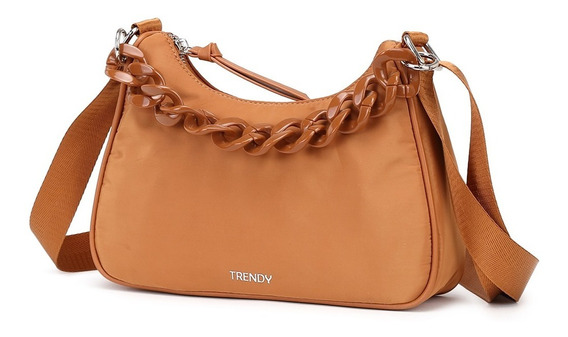cartera: (27, 18, 538, 313)
